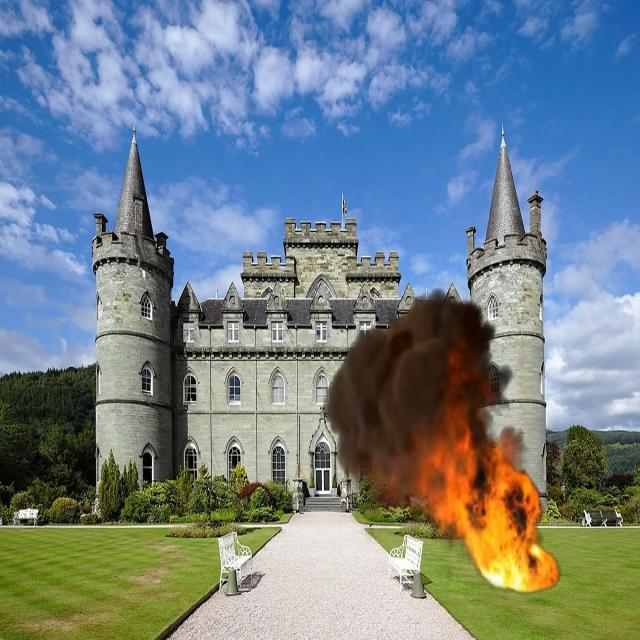Fire: (473, 482, 560, 589)
Smoke: (336, 346, 432, 452)
